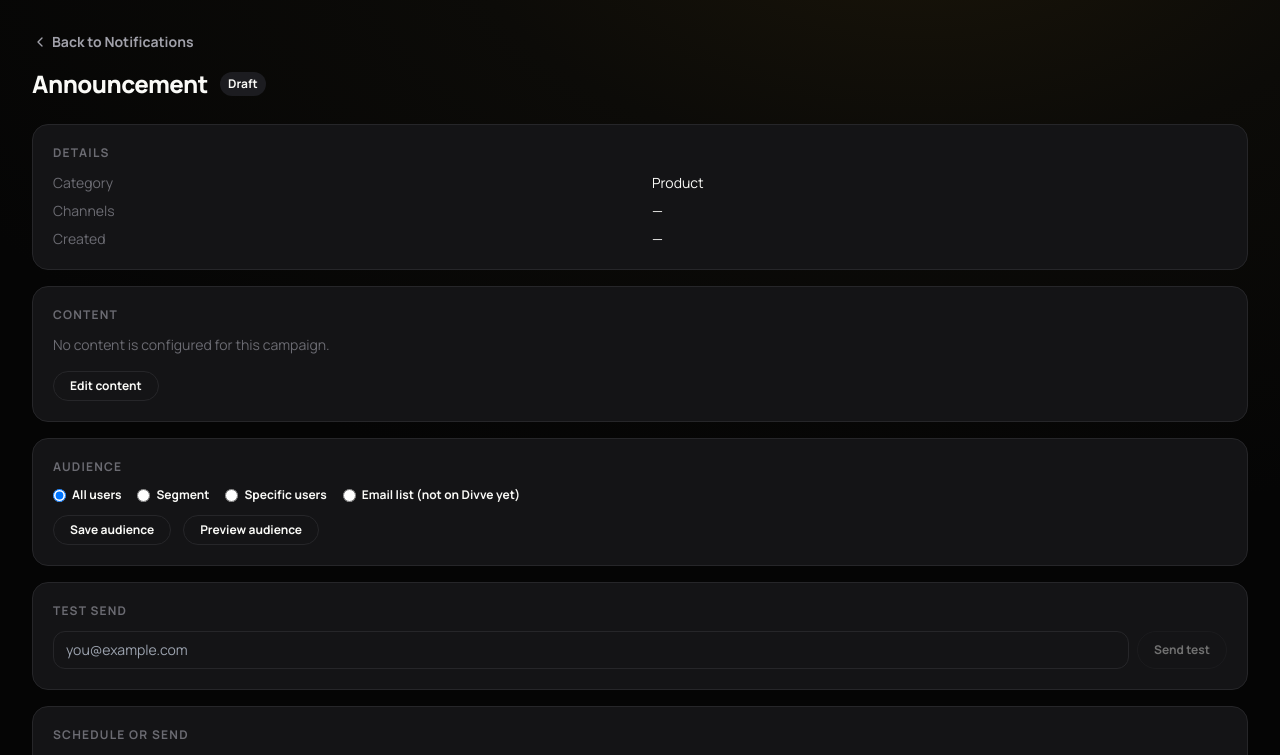
it: NotificationCampaignDetail › previews the audience
Expected: the heading "Announcement" is shown, [32, 68, 208, 100]
Step 1. Click the button with test id "admin-campaign-preview-audience-btn" → point(251, 530), box [183, 515, 319, 545]
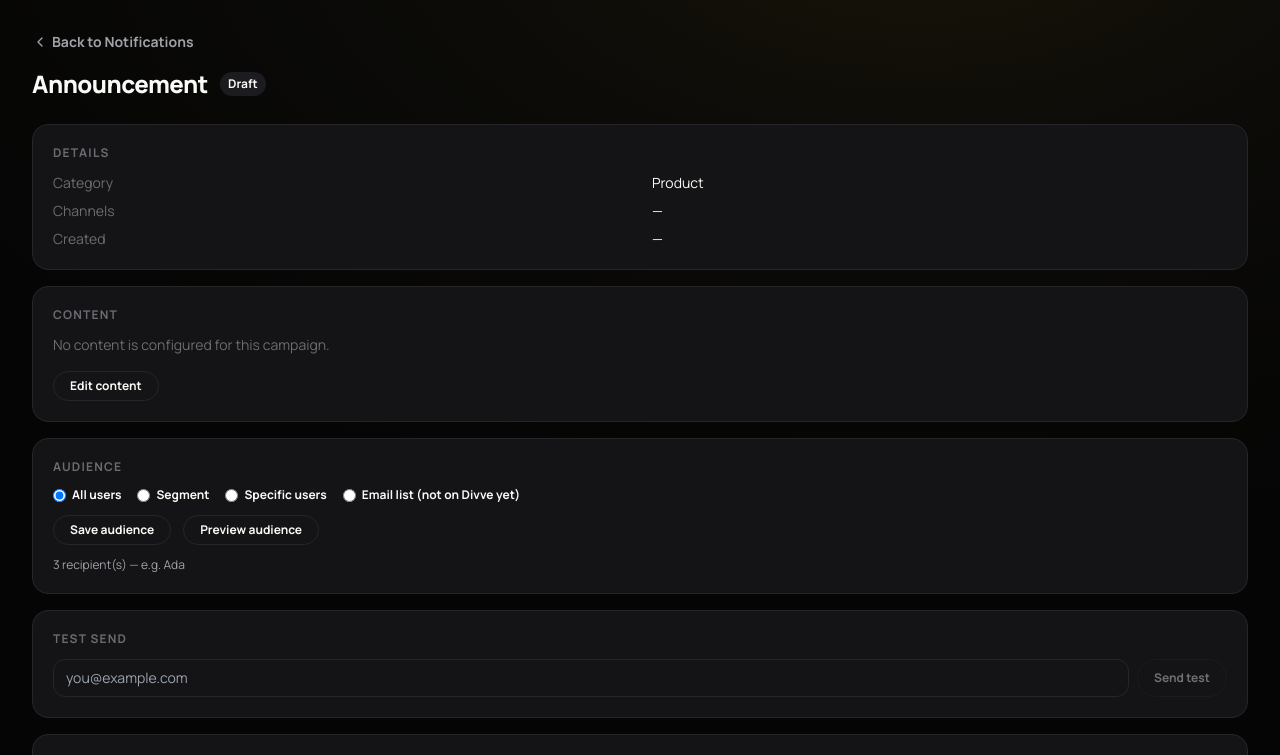
Expected: the text with test id "admin-campaign-preview-result" shows "3 recipient(s)", [53, 556, 185, 573]
